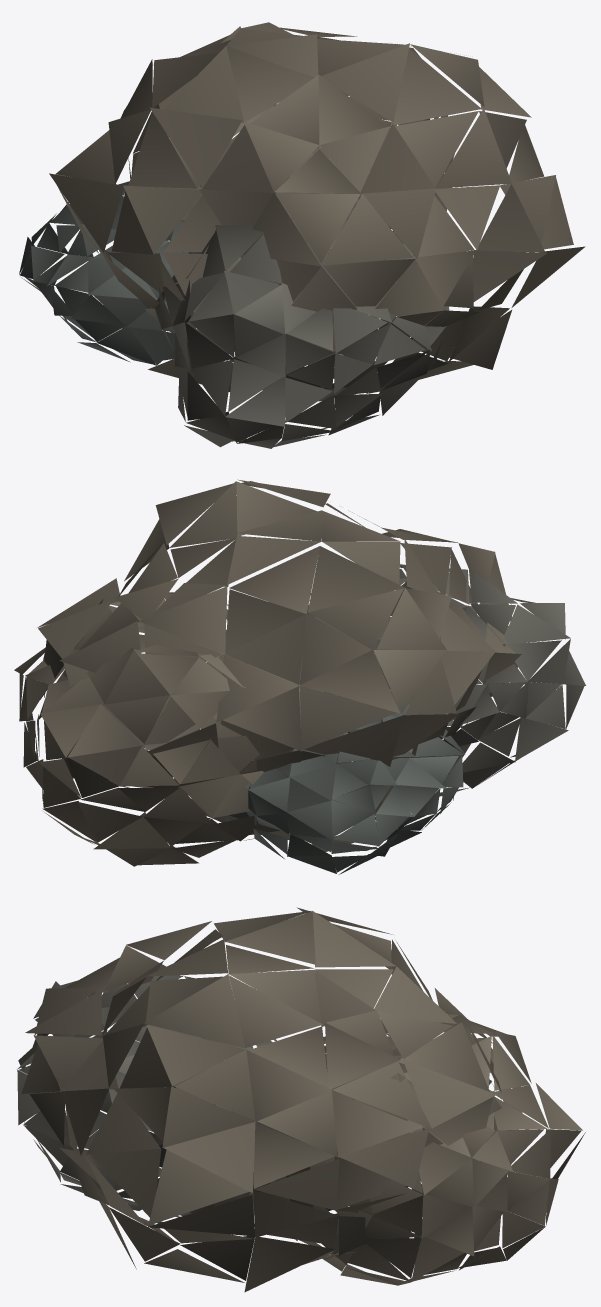
File: mature-lod1.glb
3 views of the same model, one above another, from view 1: azimuth 30°, elevation 25°; view 2: azimuth 150°, elevation 25°; view 3: azimuth 270°, elevation 25° (orthographic). The views are drawn at different scales.
Visible parts, largest first — view 1: weathered-fieldstone; view 2: weathered-fieldstone; view 3: weathered-fieldstone.
Part boxes in pixels (x1,y1,x2,y2): weathered-fieldstone: (19,22,585,448); weathered-fieldstone: (14,479,585,874); weathered-fieldstone: (17,907,585,1292).
Bounding box in the file's own units: 3.4 × 2.52 × 4.07.
